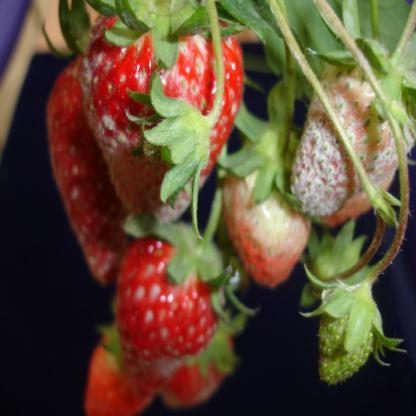Strawberry_Powdery_Mildew_Fruit: (75, 0, 243, 226), (288, 42, 416, 217), (44, 57, 140, 283), (112, 225, 228, 395)
